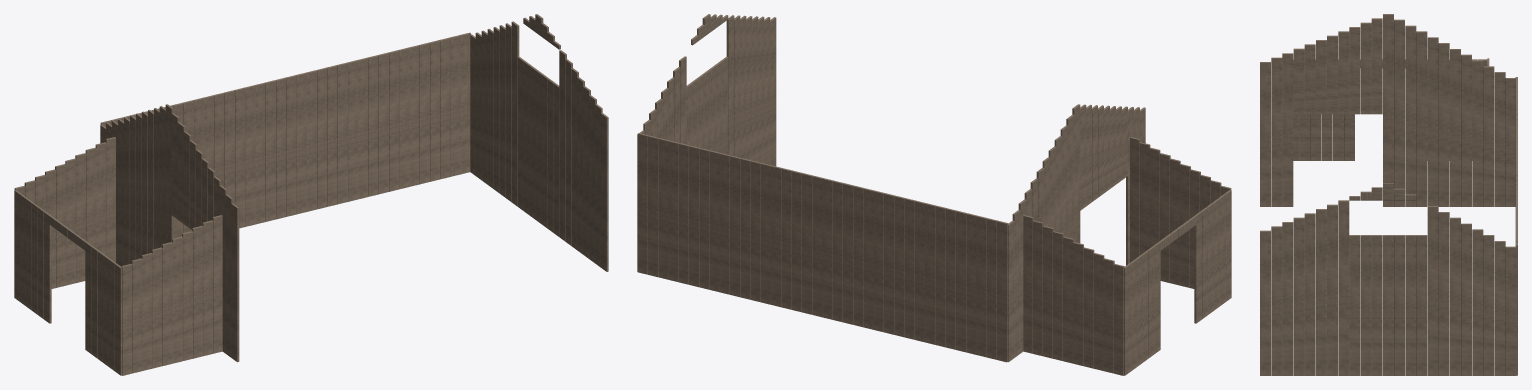
The model's file is BW_StableA02_Shell.fbx.
The picture shows the model from 3 angles, left to right: view 1: azimuth 30°, elevation 25°; view 2: azimuth 150°, elevation 25°; view 3: azimuth 270°, elevation 25°; orthographic projection. The views are drawn at different scales.
Parts seen in each view (by area): view 1: BW_StableA02_Shell; view 2: BW_StableA02_Shell; view 3: BW_StableA02_Shell.
Part boxes in pixels (left/top/right/bottom): BW_StableA02_Shell: left=14, top=14, right=608, bottom=375; BW_StableA02_Shell: left=637, top=14, right=1231, bottom=375; BW_StableA02_Shell: left=1260, top=14, right=1517, bottom=375.
Size of the model in its own units: 10.74 by 4.46 by 5.42.
